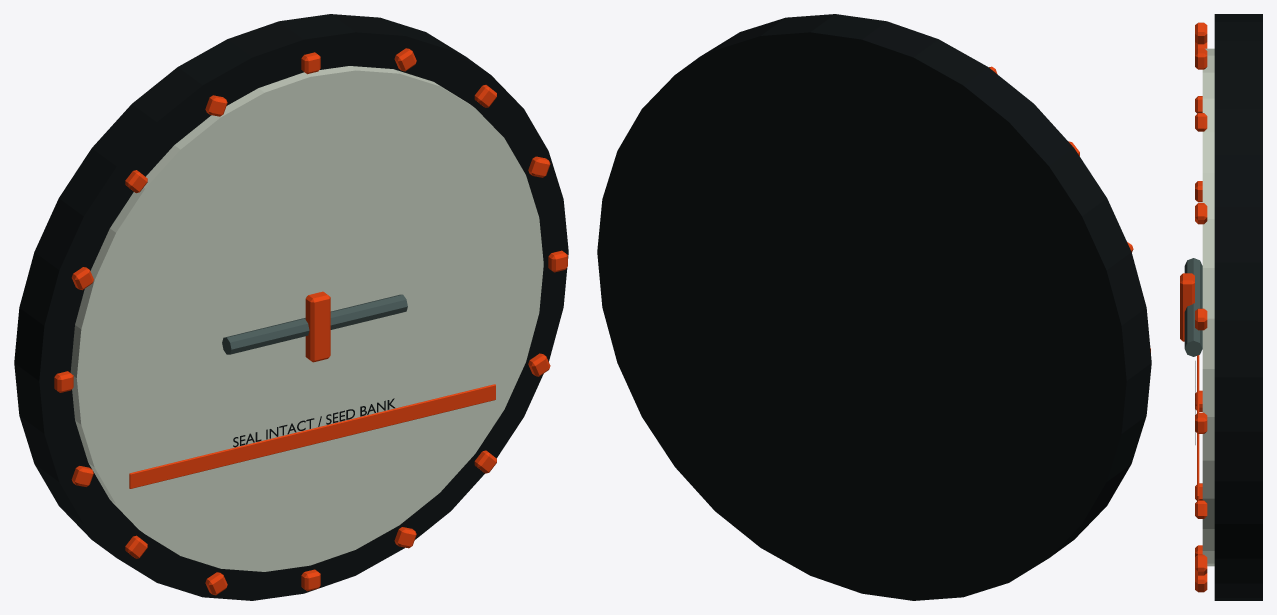
The model's file is SM_MP_Vault_Door.fbx.
3 views of the same model, side by side, from view 1: azimuth 30°, elevation 25°; view 2: azimuth 150°, elevation 25°; view 3: azimuth 270°, elevation 25° (orthographic). The views are drawn at different scales.
Parts seen in each view (by area): view 1: SM_MP_Vault_Door; view 2: SM_MP_Vault_Door; view 3: SM_MP_Vault_Door.
Boxes of the visible parts, bbox=[...] form: SM_MP_Vault_Door: bbox=[14, 14, 568, 600]; SM_MP_Vault_Door: bbox=[597, 14, 1151, 600]; SM_MP_Vault_Door: bbox=[1180, 14, 1262, 600].
Bounding box in the file's own units: 390 × 55 × 390.
Materials: 1 (1 with a texture image).
